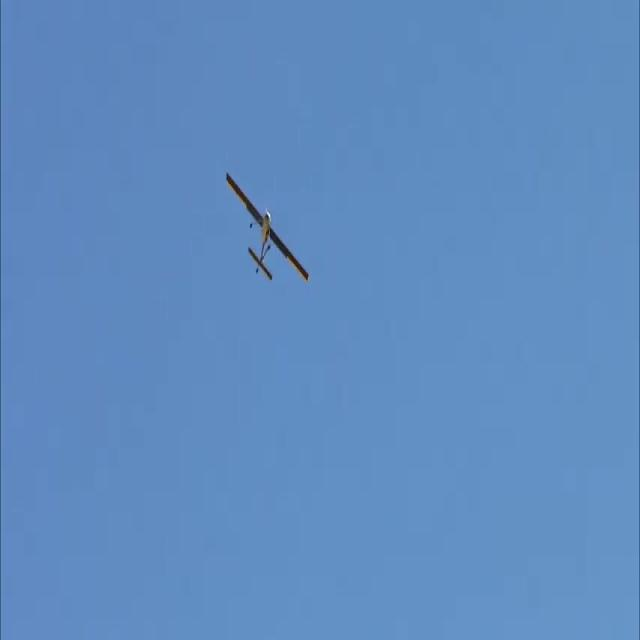iha: (251, 203, 272, 252)
